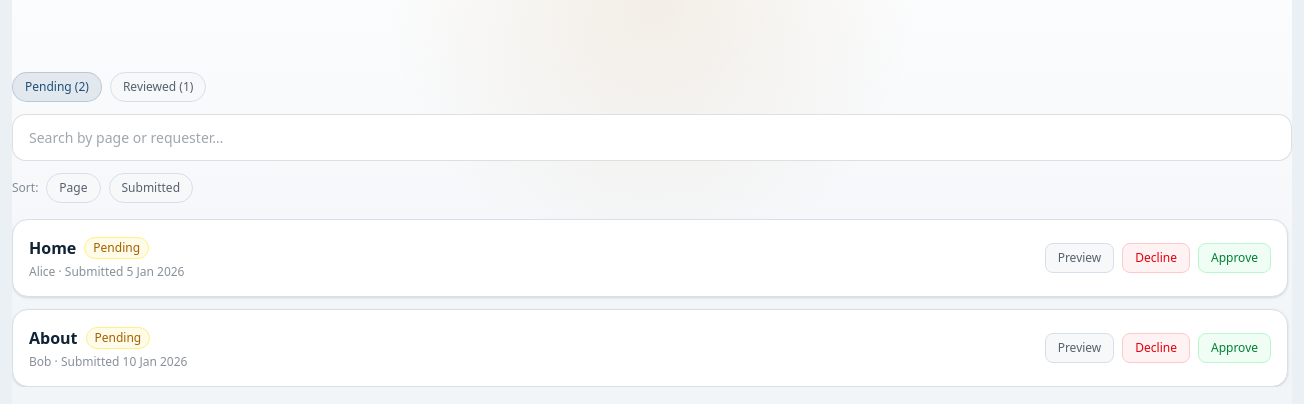
it: RequestsTab › shows a not-found message when search matches nothing in the active list
Expected: the text "Alice · Submitted 5 Jan 2026" is shown, [29,263,184,280]
Type "nobody" into the field with placeholder "Search by page or requester…" at (652, 138), box [12,114,1292,161]
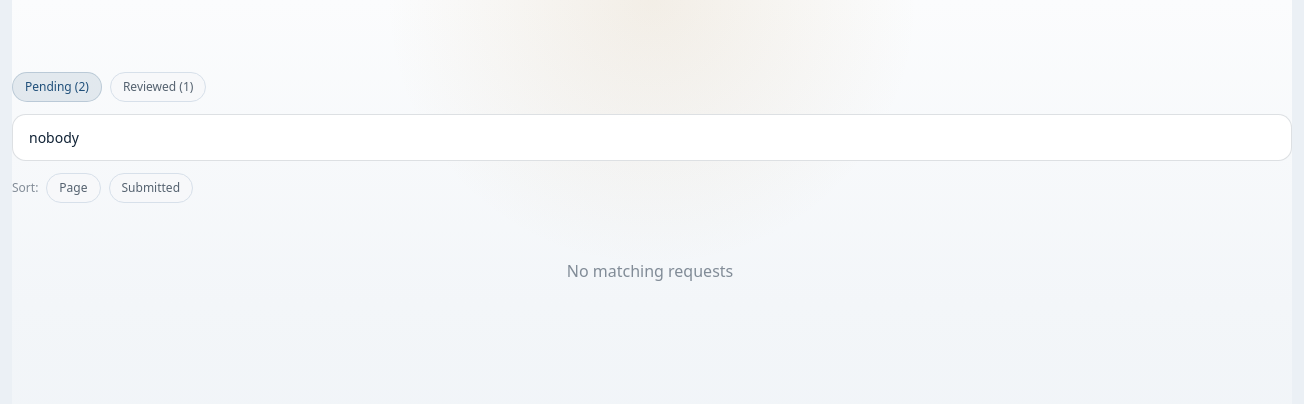
Expected: the text "No matching requests" is shown, [567,260,733,282]
